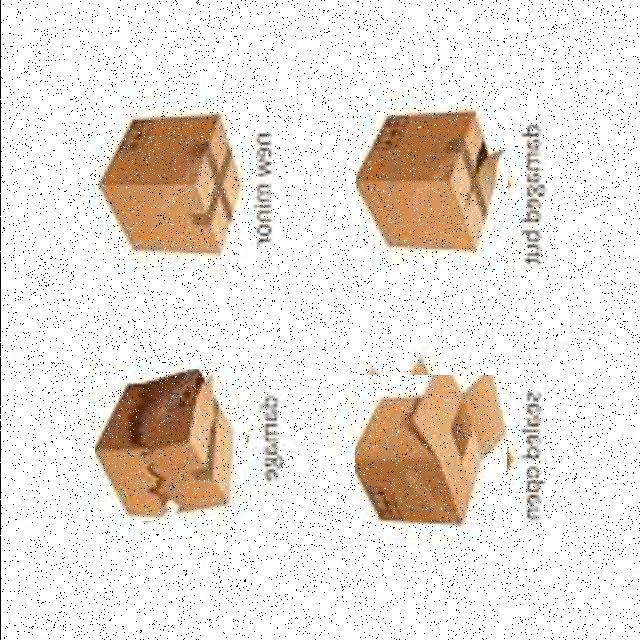defect: (94, 369, 246, 521), (354, 375, 506, 527), (355, 107, 507, 259)
normal: (95, 109, 247, 261)
